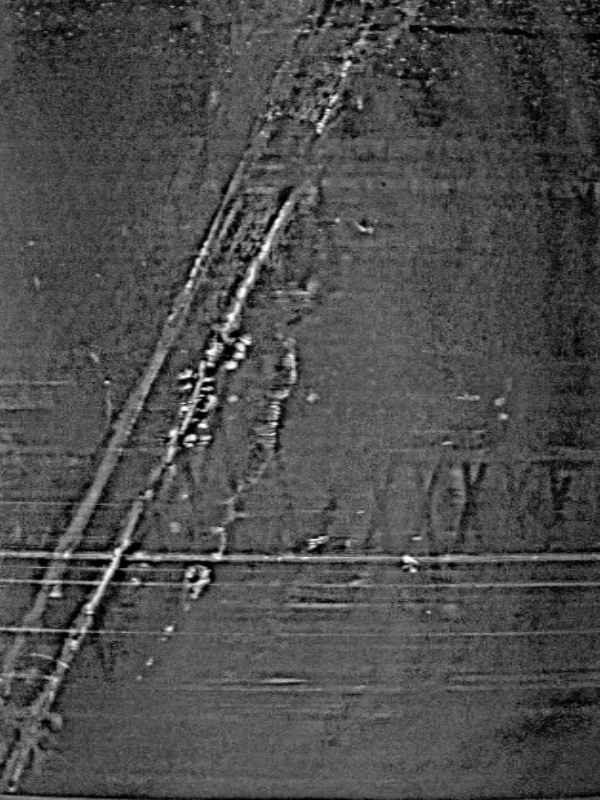splice_vulcanized: (2, 1, 386, 792)
